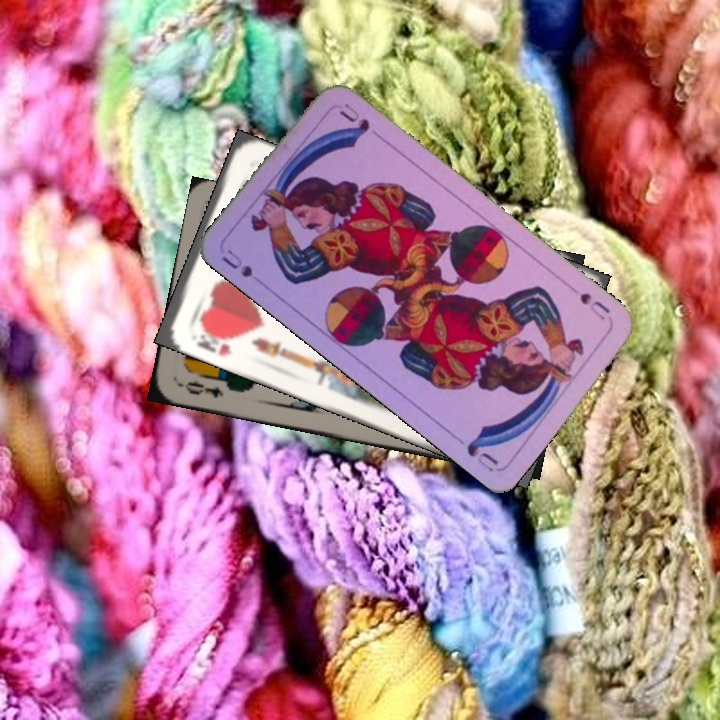EO: (175, 376, 226, 402)
HK: (193, 322, 236, 359)
SU: (217, 245, 270, 289), (565, 281, 613, 324)
